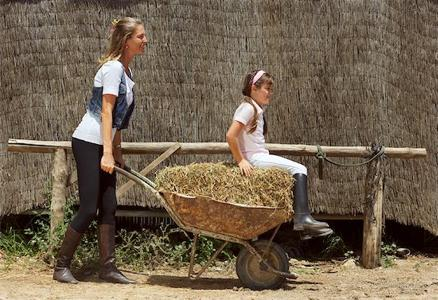person: (50, 16, 152, 285)
